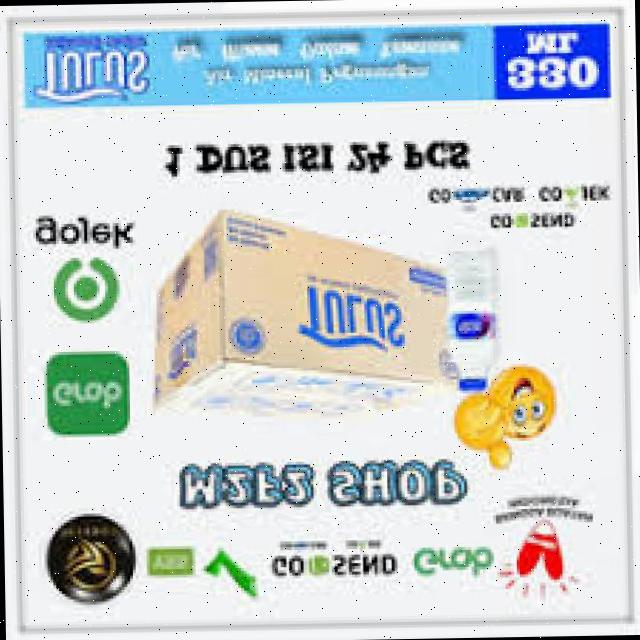bottle: (441, 232, 512, 402)
